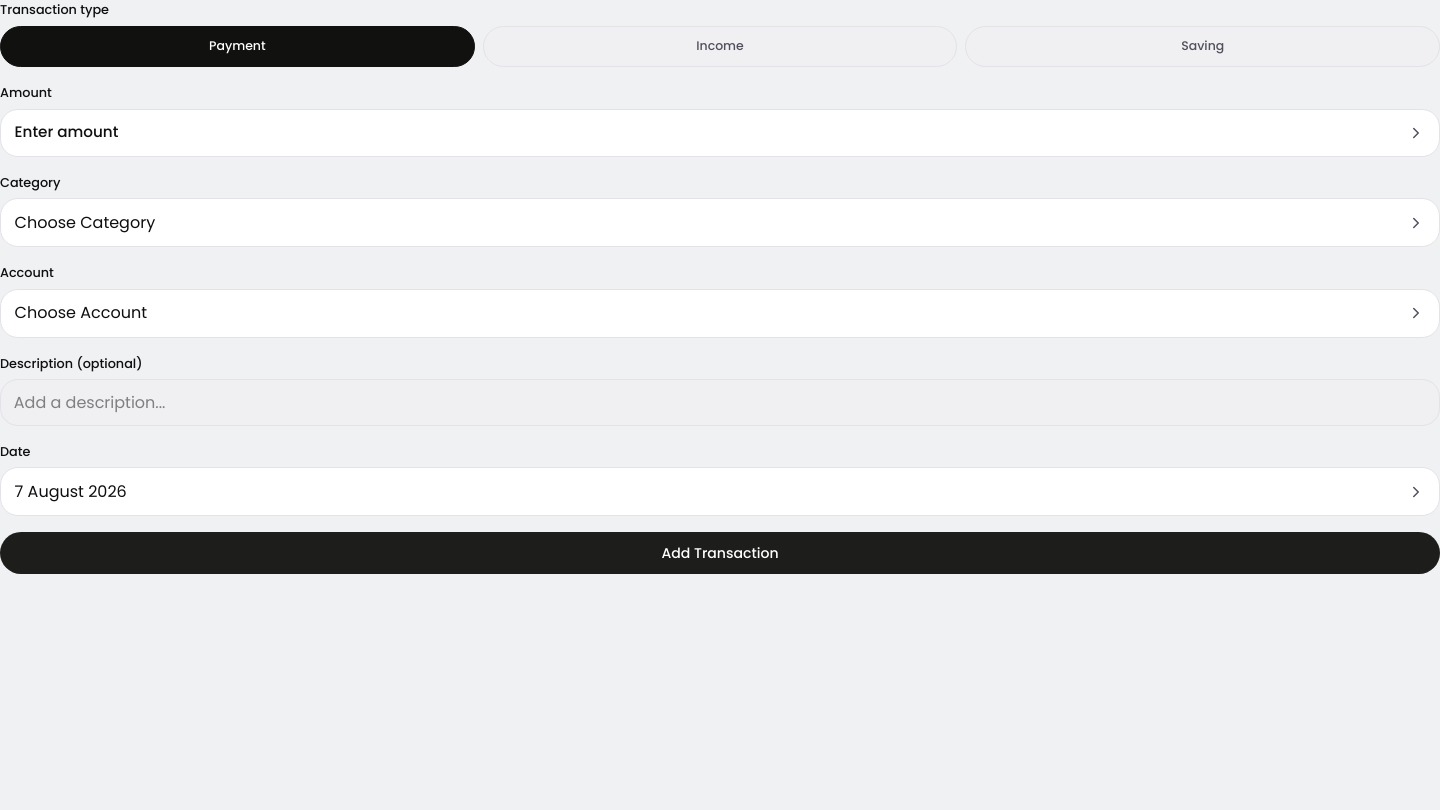
Test: TransactionForm › inserts three zeroes with the 000 button
Click the button "Enter amount": coordinates (66, 132) [0, 109, 1439, 157]
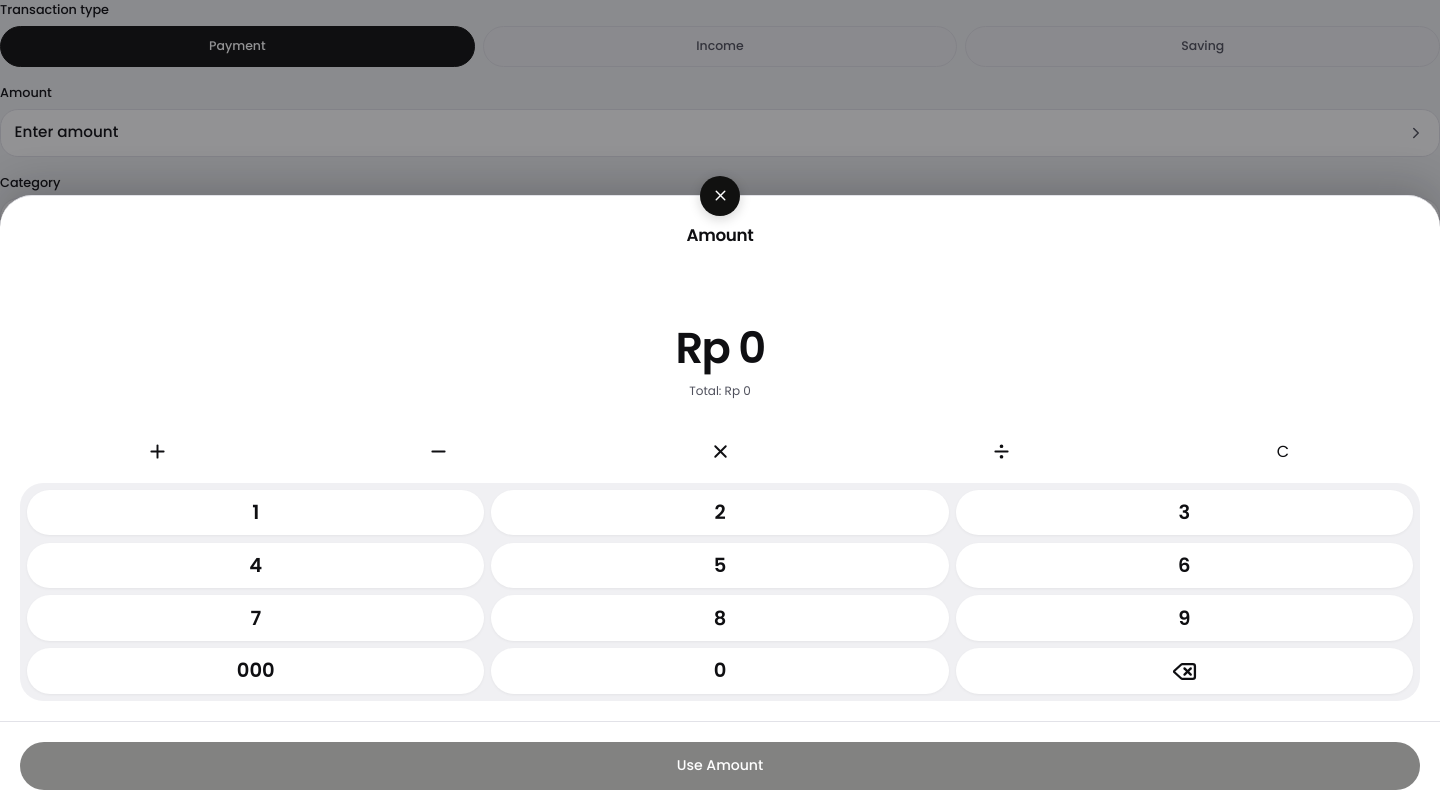
Click the button "1": coordinates (256, 513) [27, 490, 484, 536]
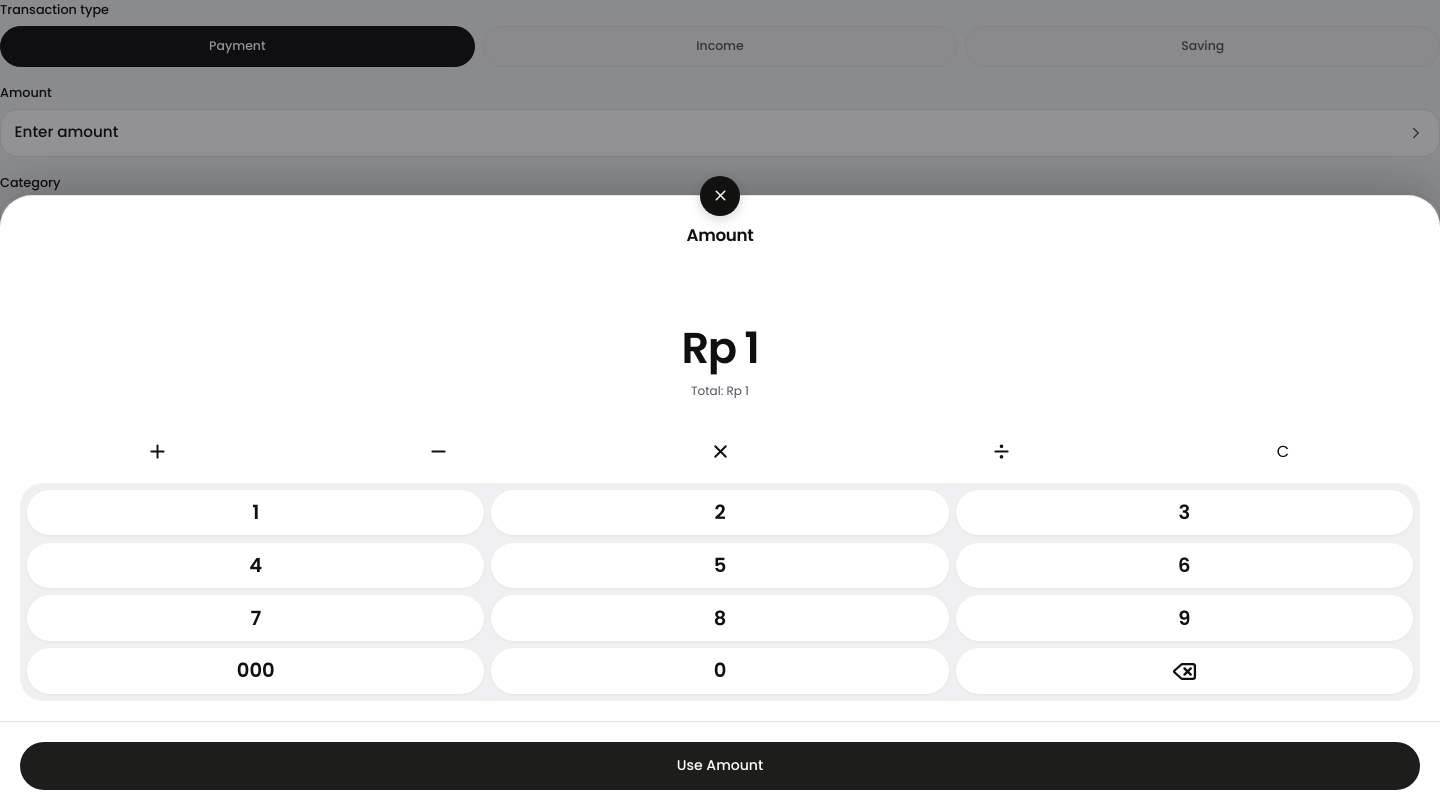
Click the button named "Insert three zeros": coordinates (256, 671) [27, 648, 484, 694]
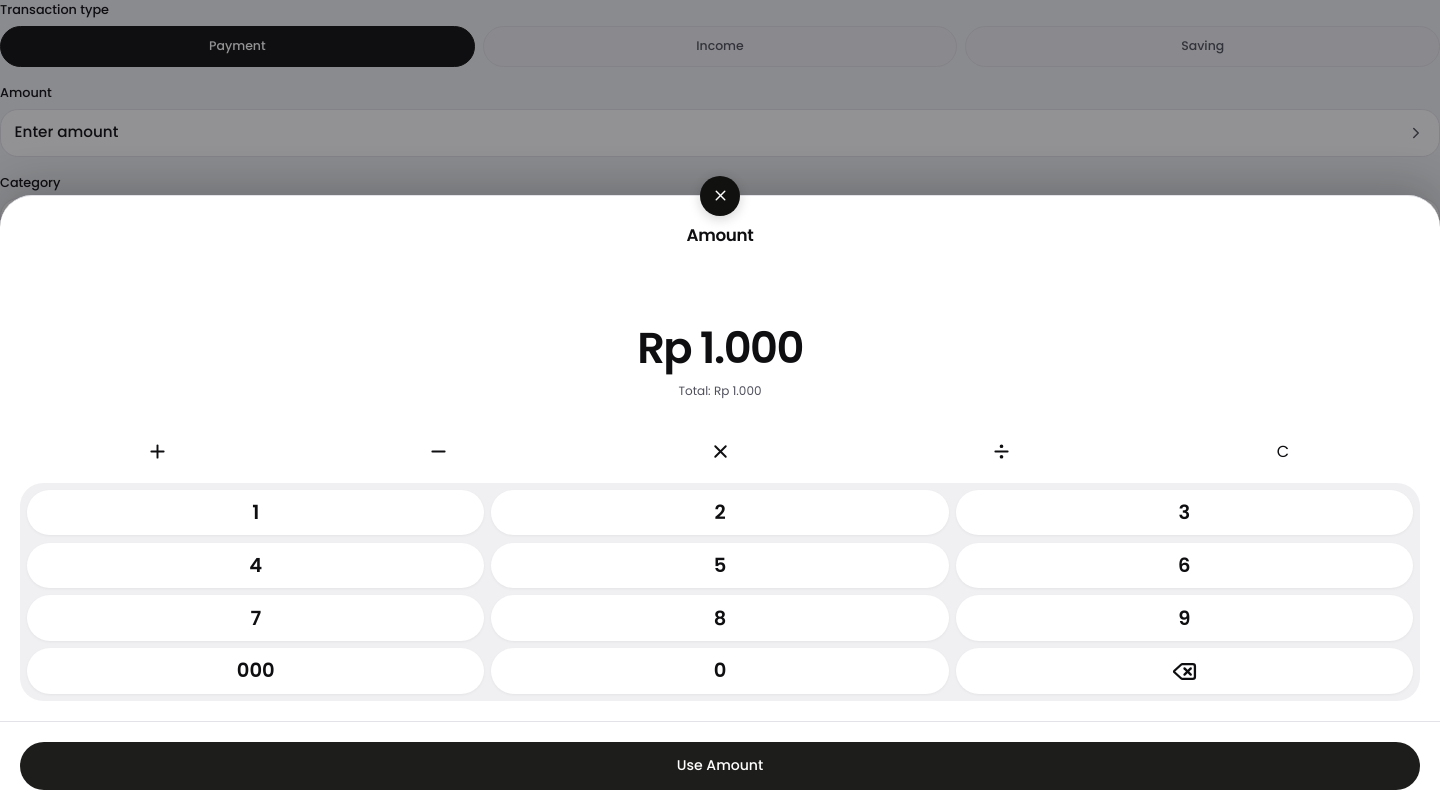
Expected: the text named "Calculator expression" reads "Rp 1.000", [637, 318, 803, 378]
